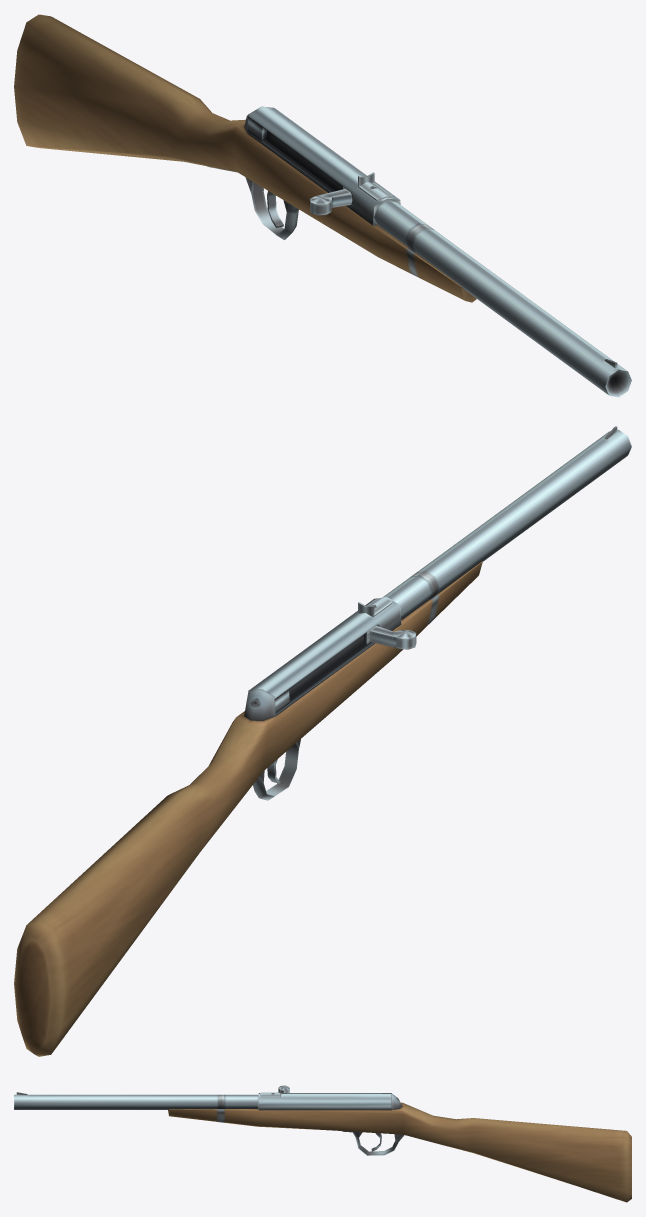
Rendered from jsf_Corkgun_01.fbx.
3 views of the same model, one above another, from view 1: azimuth 30°, elevation 25°; view 2: azimuth 150°, elevation 25°; view 3: azimuth 270°, elevation 25° (orthographic). The views are drawn at different scales.
Visible parts, largest first — view 1: Gun, Lever; view 2: Gun, Lever; view 3: Gun.
Part boxes in pixels (x1,y1,x2,y2): Gun: (14,14,631,397); Lever: (310,186,352,215); Gun: (14,426,631,1056); Lever: (364,625,416,649); Gun: (14,1087,631,1202).
Size of the model in its own units: 5.63 by 14.91 by 74.1.
